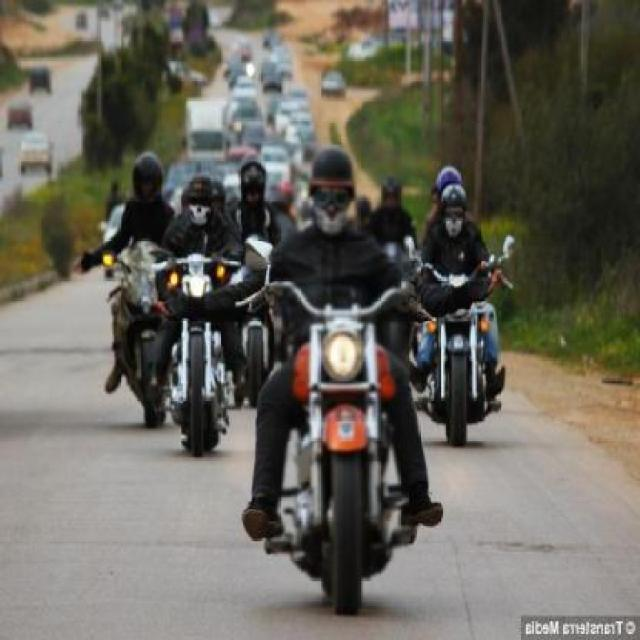helmet: (306, 146, 362, 233), (428, 170, 473, 237), (129, 152, 170, 218), (184, 174, 222, 241)
motorcycle: (244, 140, 436, 629), (158, 185, 276, 469), (407, 161, 516, 466), (102, 152, 177, 432)
